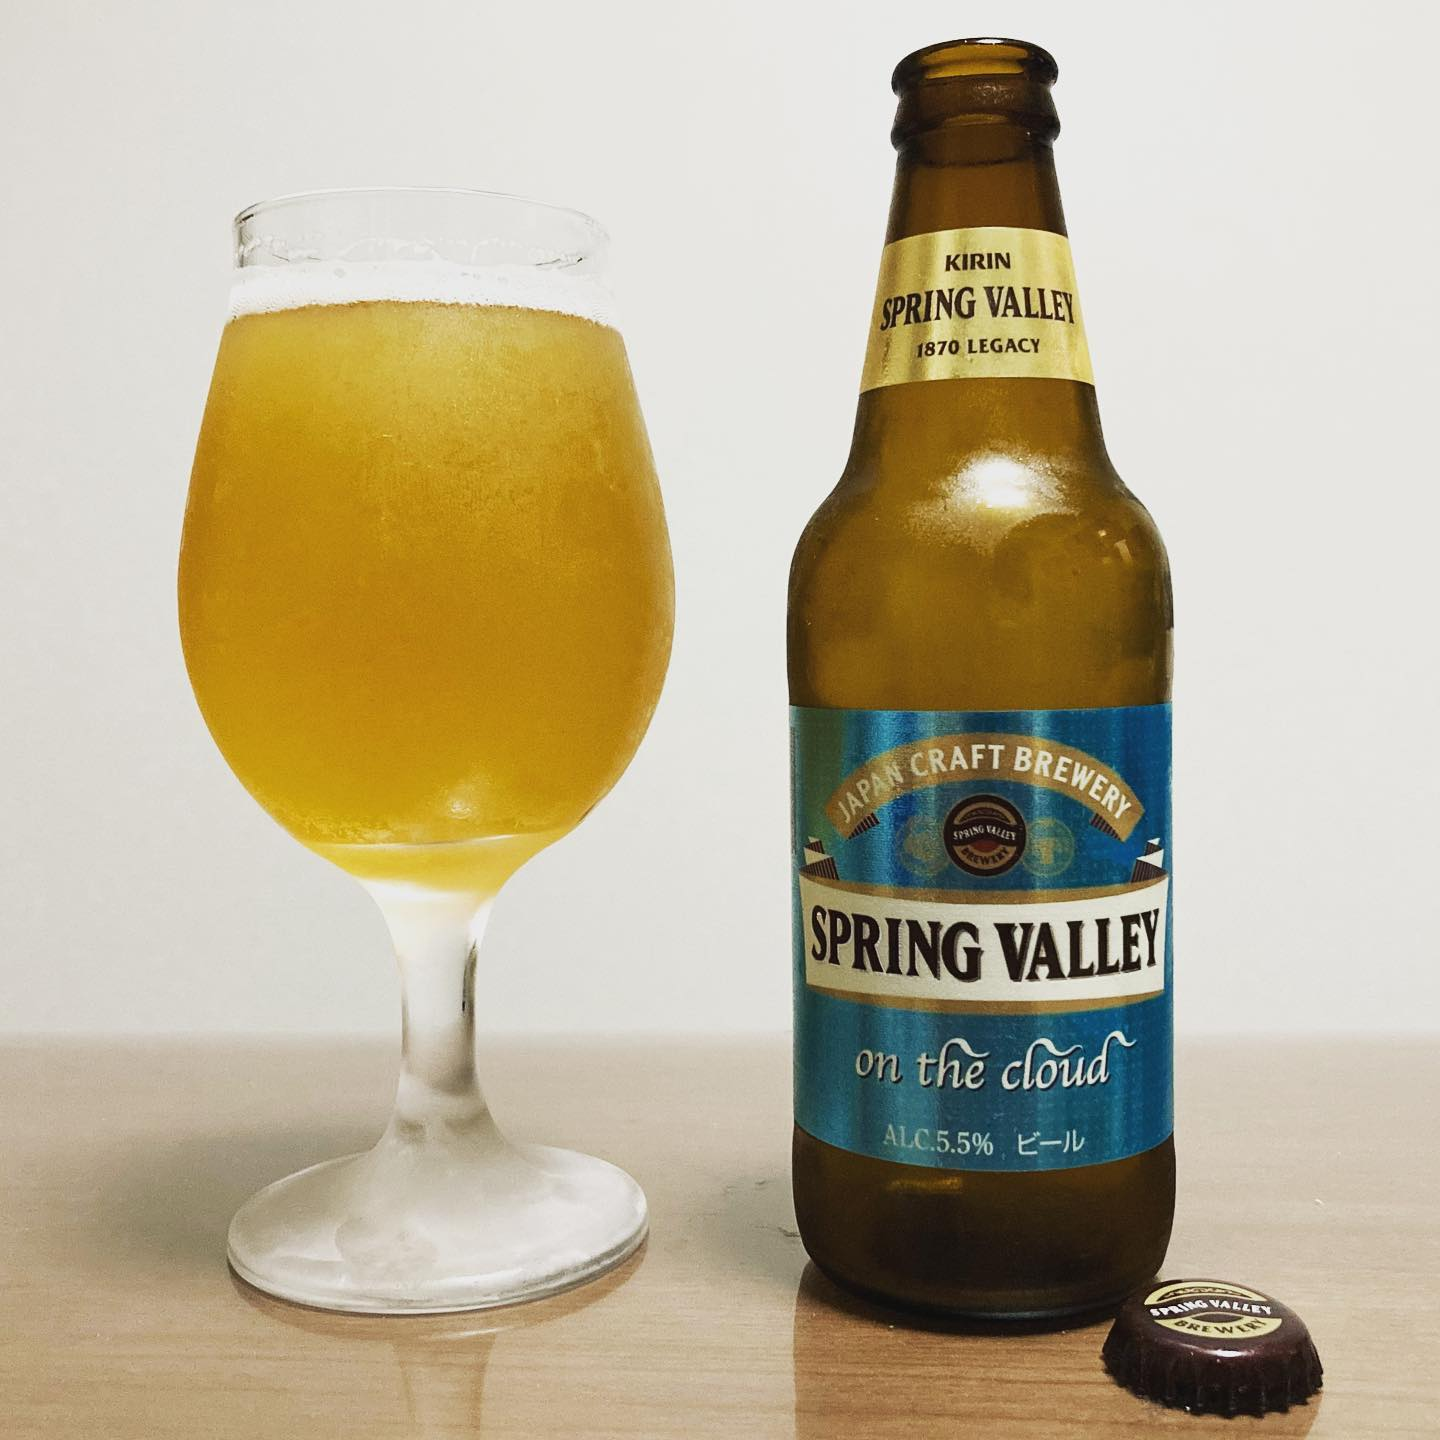alcohol: (169, 178, 686, 1328), (781, 29, 1182, 1344)
